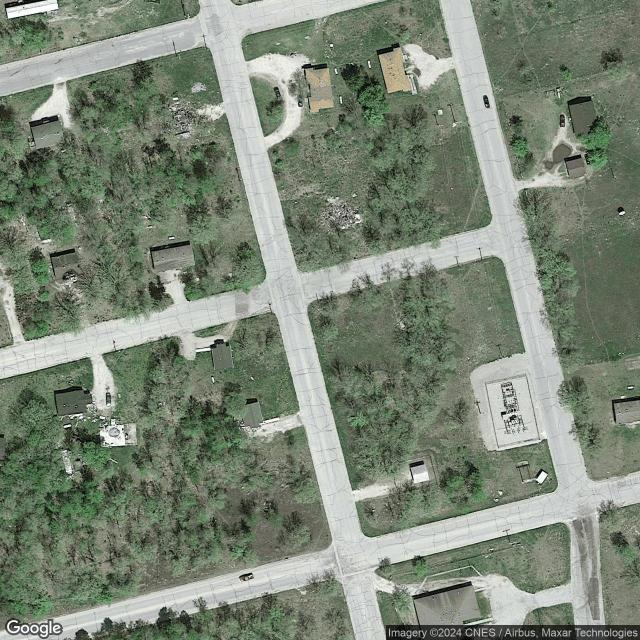Propane: (62, 422, 73, 430), (338, 94, 344, 105), (210, 375, 216, 384), (167, 235, 176, 241), (333, 66, 339, 75), (626, 384, 635, 390), (367, 59, 372, 69)
